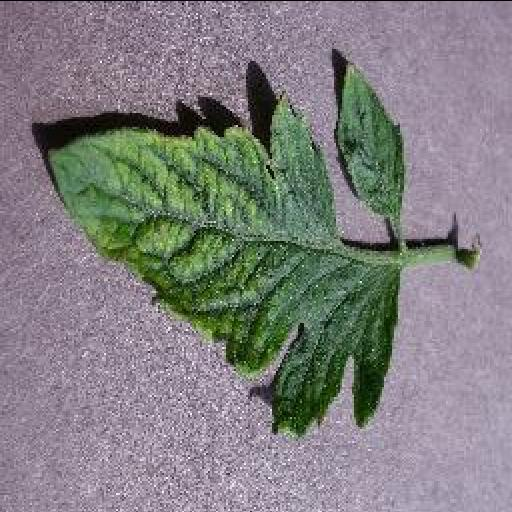Mosaic Virus: (42, 62, 404, 442)
